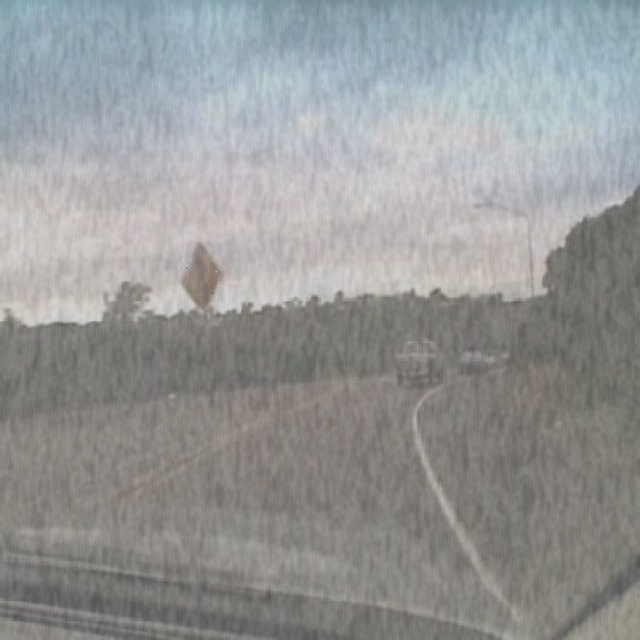merge: (182, 240, 224, 311)
